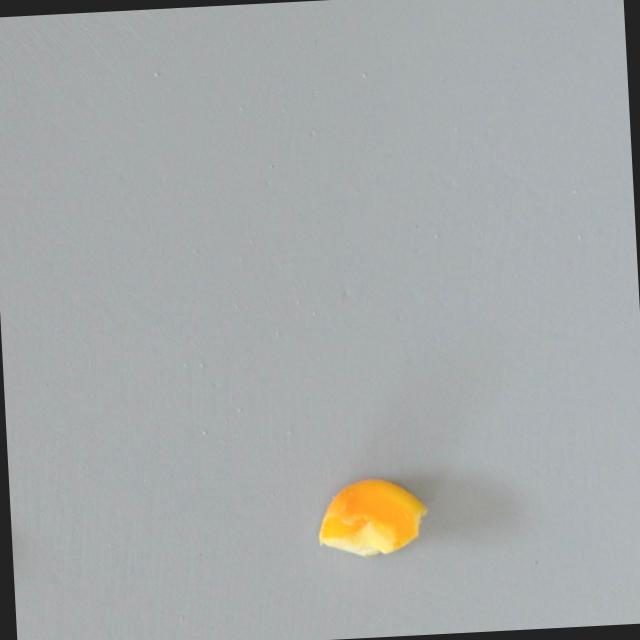pelicula: (311, 472, 433, 565)
